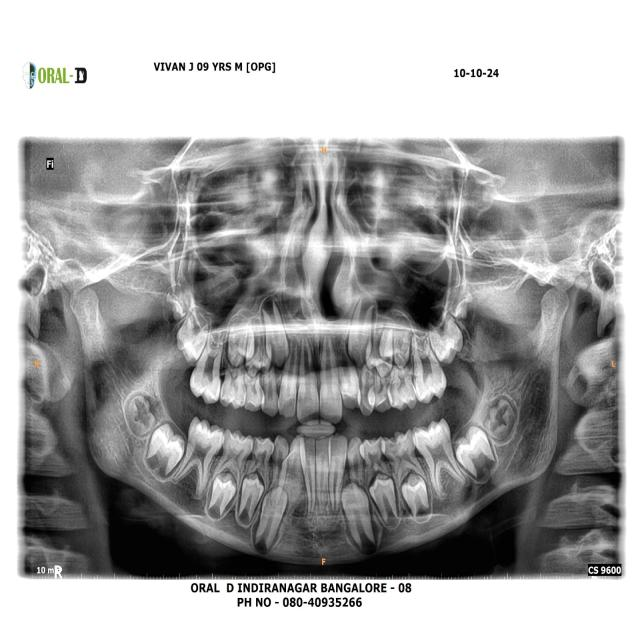Premolars: (359, 435, 393, 492)
